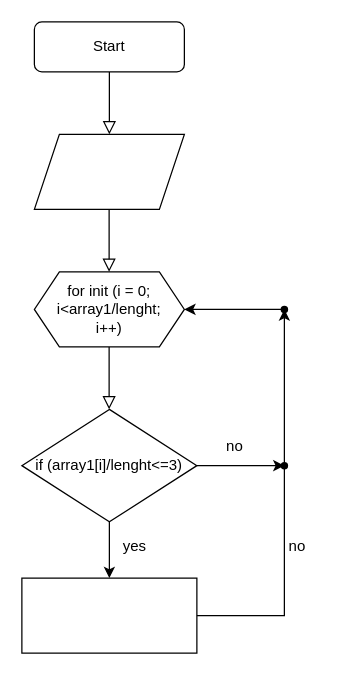
Image size: 344x675. Some labels were removed from this diagram. The shapes that lost their labels are listed below. From the top down, each one's box as (x1, y1, x2, y2) in pixels, then its label:
(33, 133, 184, 209): string[] array1 string[] array2 init count = 1
(21, 577, 197, 653): array2[count]=array1[i] count++;
